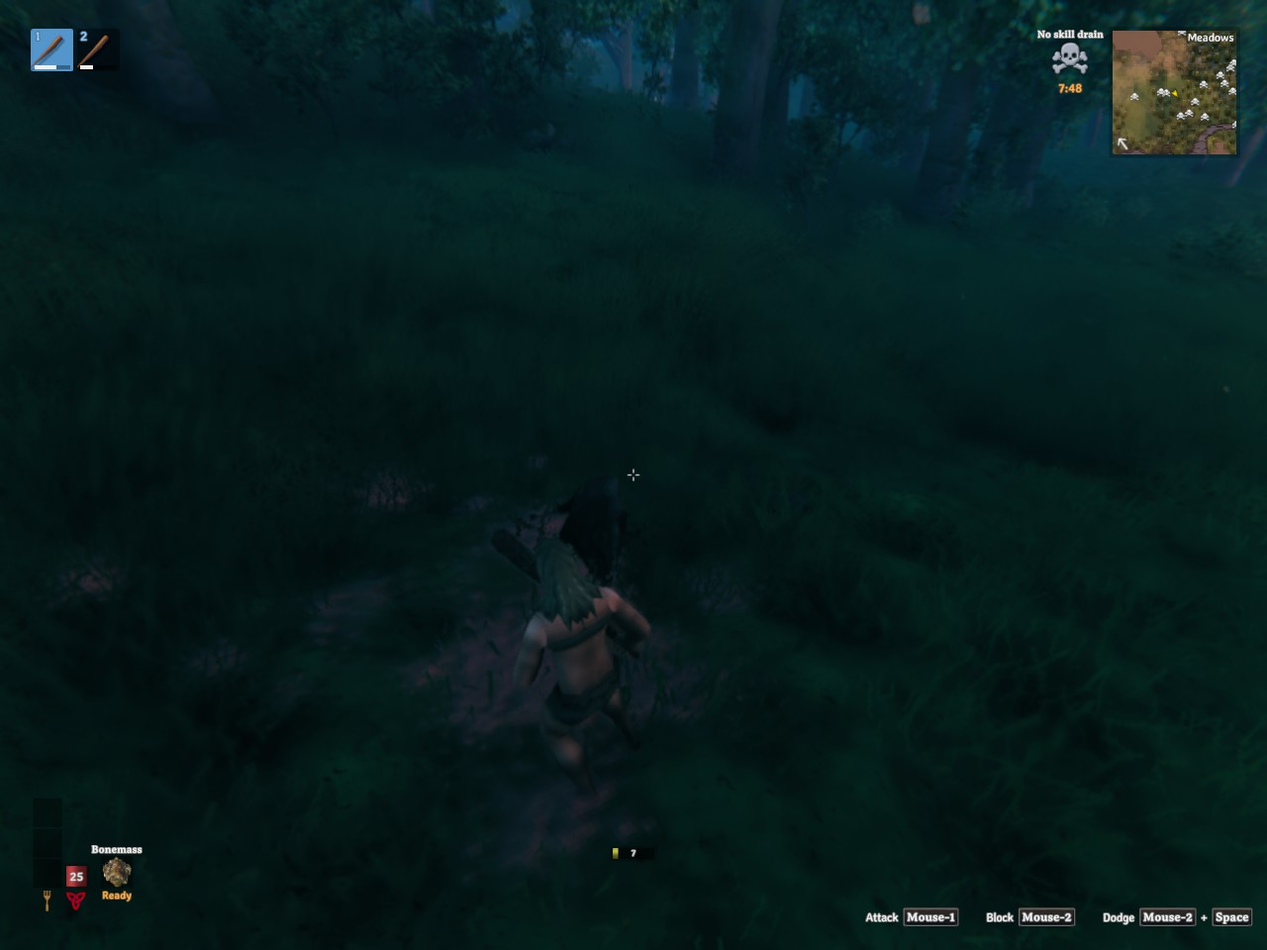Boar: (558, 477, 626, 584)
